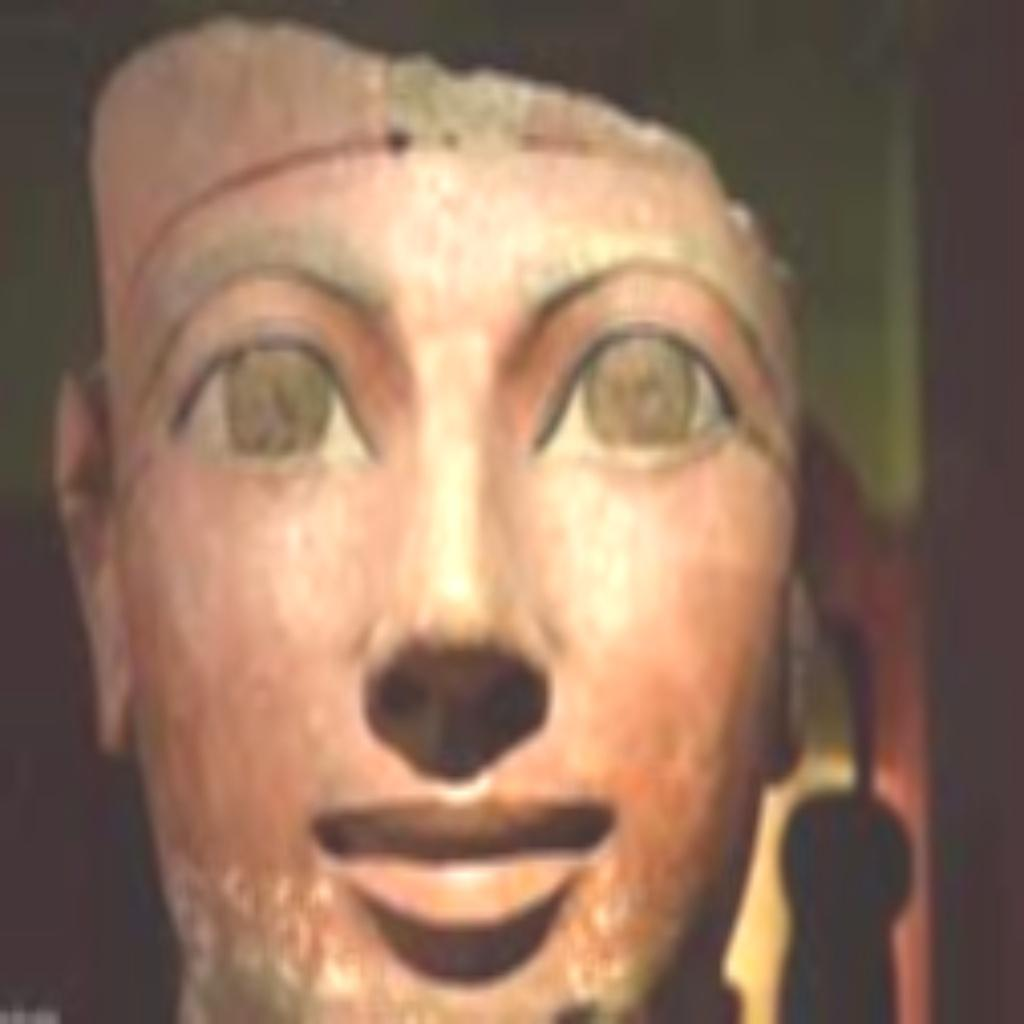Hatshepsut face: (56, 18, 822, 1018)
